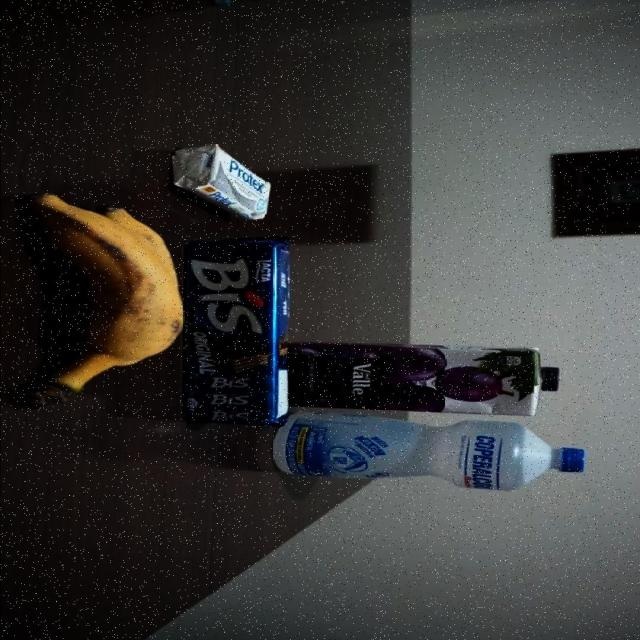AlcoholBottle: (266, 410, 588, 493)
Banana: (12, 191, 184, 411)
Soap: (172, 143, 271, 224)
